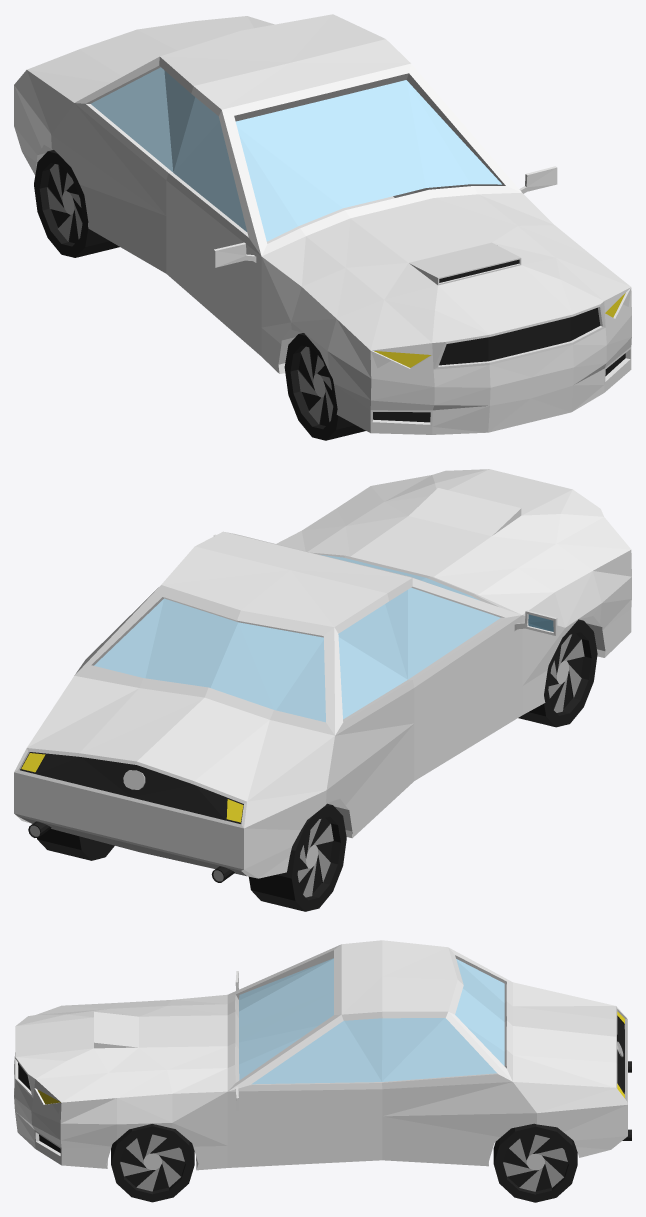
Rendered from sports-car.gltf.
3 renders of one model, top to bottom at view 1: azimuth 30°, elevation 25°; view 2: azimuth 150°, elevation 25°; view 3: azimuth 270°, elevation 25°, orthographic. The views are drawn at different scales.
Parts seen in each view (by area): view 1: chassis, extra-car-stuff, back-right-tire, front-right-tire; view 2: chassis, extra-car-stuff, back-right-tire, front-right-tire, back-left-tire; view 3: chassis, extra-car-stuff, back-left-tire, front-left-tire.
Part boxes in pixels (x1,y1,x2,y2): chassis: (14,14,631,434); extra-car-stuff: (91,67,625,367); back-right-tire: (34,150,119,257); front-right-tire: (284,333,365,440); chassis: (14,469,631,878); extra-car-stuff: (21,554,500,882); back-right-tire: (249,803,346,911); front-right-tire: (518,619,597,727); back-left-tire: (37,829,114,860); chassis: (14,940,627,1170); extra-car-stuff: (37,958,631,1140); back-left-tire: (493,1123,577,1202); front-left-tire: (111,1124,194,1202).
Size of the model in its own units: 4.23 by 2.77 by 8.69.
2 materials, 2 textured.
